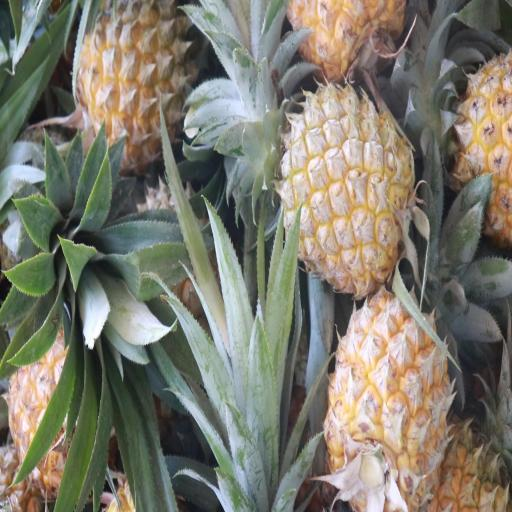------------------------------: (74, 1, 194, 161)
Pineapple - v8 v1: (281, 84, 416, 295), (331, 281, 449, 512), (428, 47, 512, 247)
